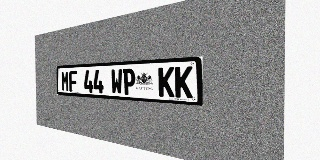4: (93, 70, 103, 93), (84, 70, 93, 93)
F: (69, 71, 77, 92)
K: (175, 66, 193, 98), (158, 67, 174, 97)
M: (61, 71, 69, 92)
P: (123, 68, 135, 95)
W: (111, 69, 122, 94)
